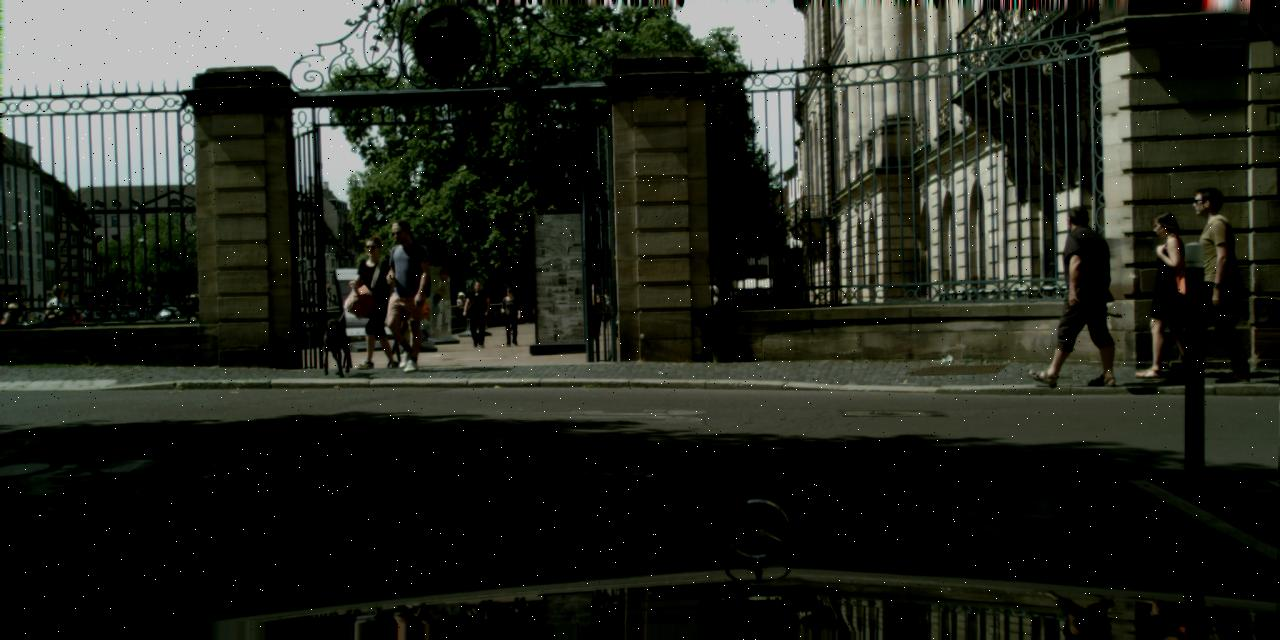ped: (1168, 187, 1248, 381), (1040, 204, 1114, 386), (1137, 212, 1203, 374), (371, 220, 433, 370), (348, 234, 403, 368), (464, 281, 491, 346), (498, 286, 522, 346), (454, 290, 468, 326)
